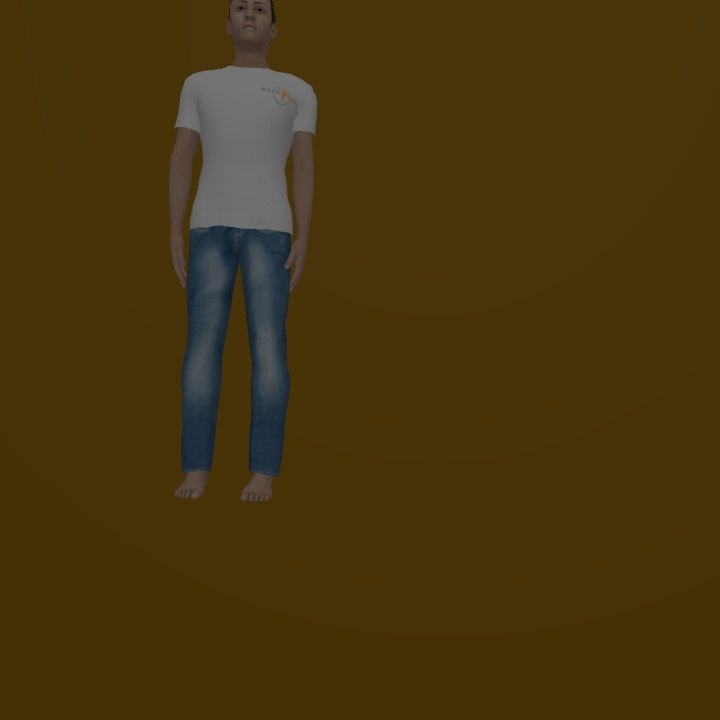victim: (170, 1, 321, 504)
